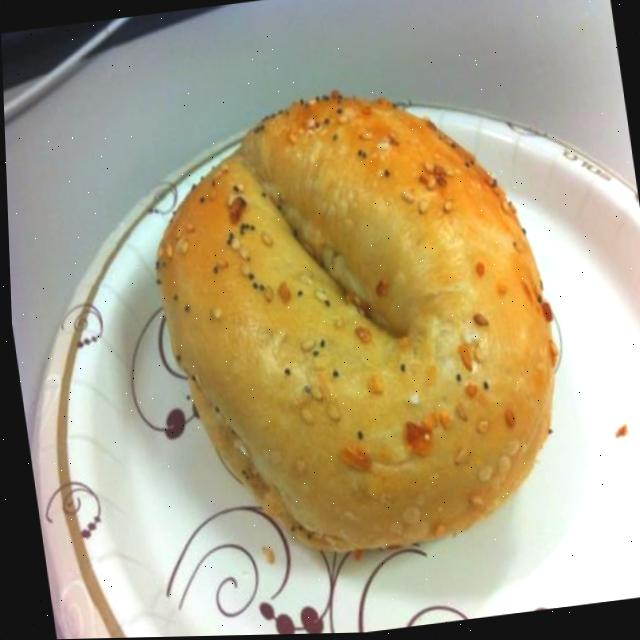面包点心: (17, 12, 640, 632)
